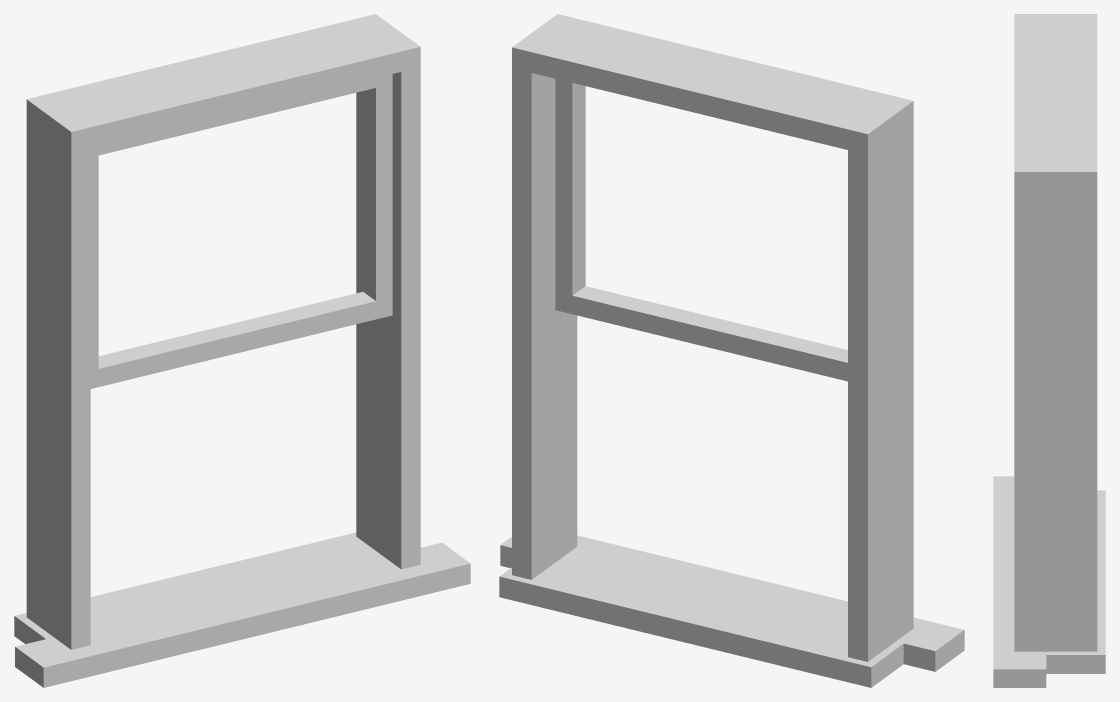
The model's file is Window3_01.fbx.
The picture shows the model from 3 angles, left to right: view 1: azimuth 30°, elevation 25°; view 2: azimuth 150°, elevation 25°; view 3: azimuth 270°, elevation 25°; orthographic projection. The views are drawn at different scales.
Visible parts, largest first — view 1: Window3_01; view 2: Window3_01; view 3: Window3_01.
Boxes of the visible parts, <box> form: Window3_01: <box>14,14,470,687</box>; Window3_01: <box>499,14,964,687</box>; Window3_01: <box>993,14,1105,687</box>.
Size of the model in its own units: 110 by 133 by 27.
